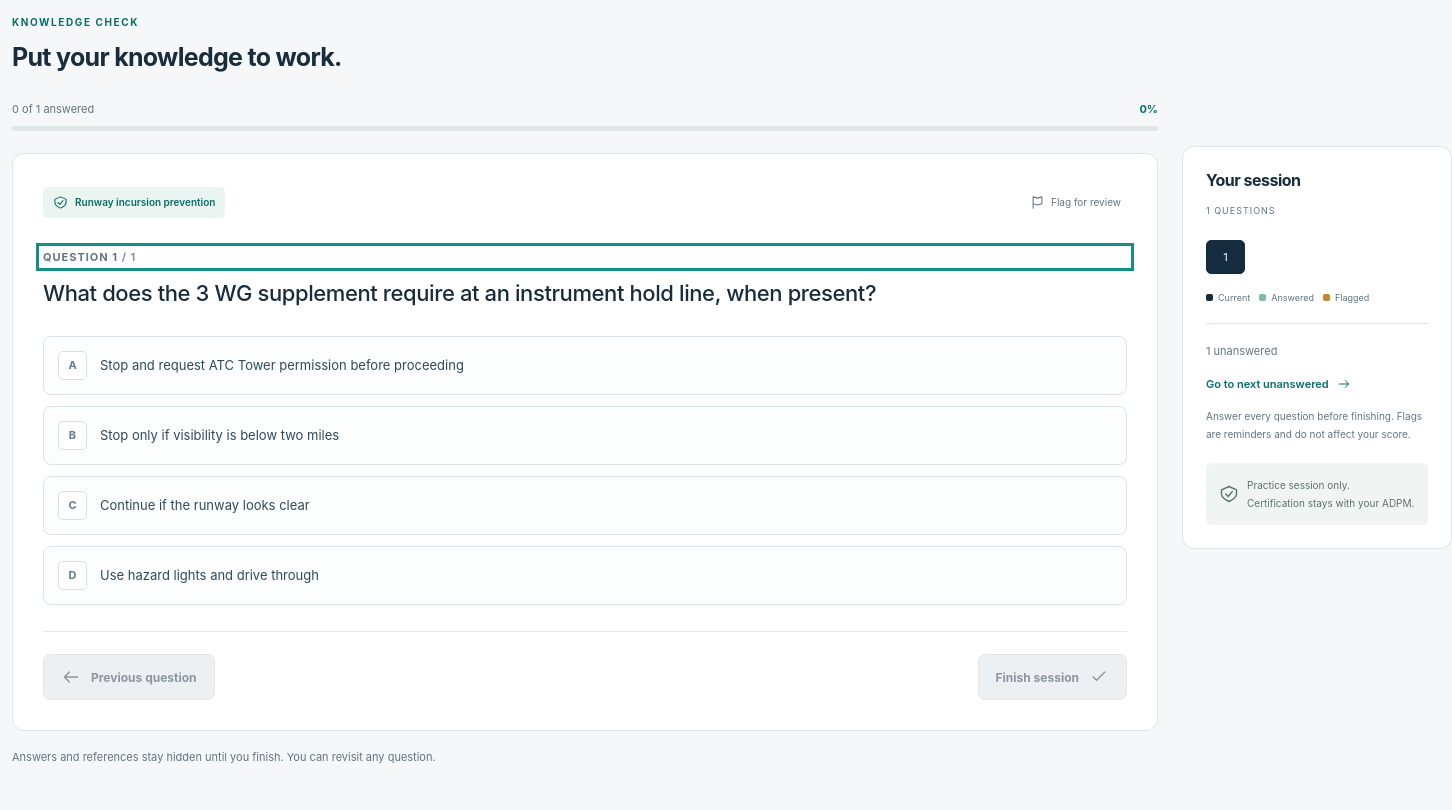
missing an Elmendorf instrument hold-line answer requires incursion review
The width and height of the screenshot is (1452, 810).
Click the button "C Continue if the runway looks clear".
click(205, 505)  # box x1=43 y1=476 x2=1127 y2=535
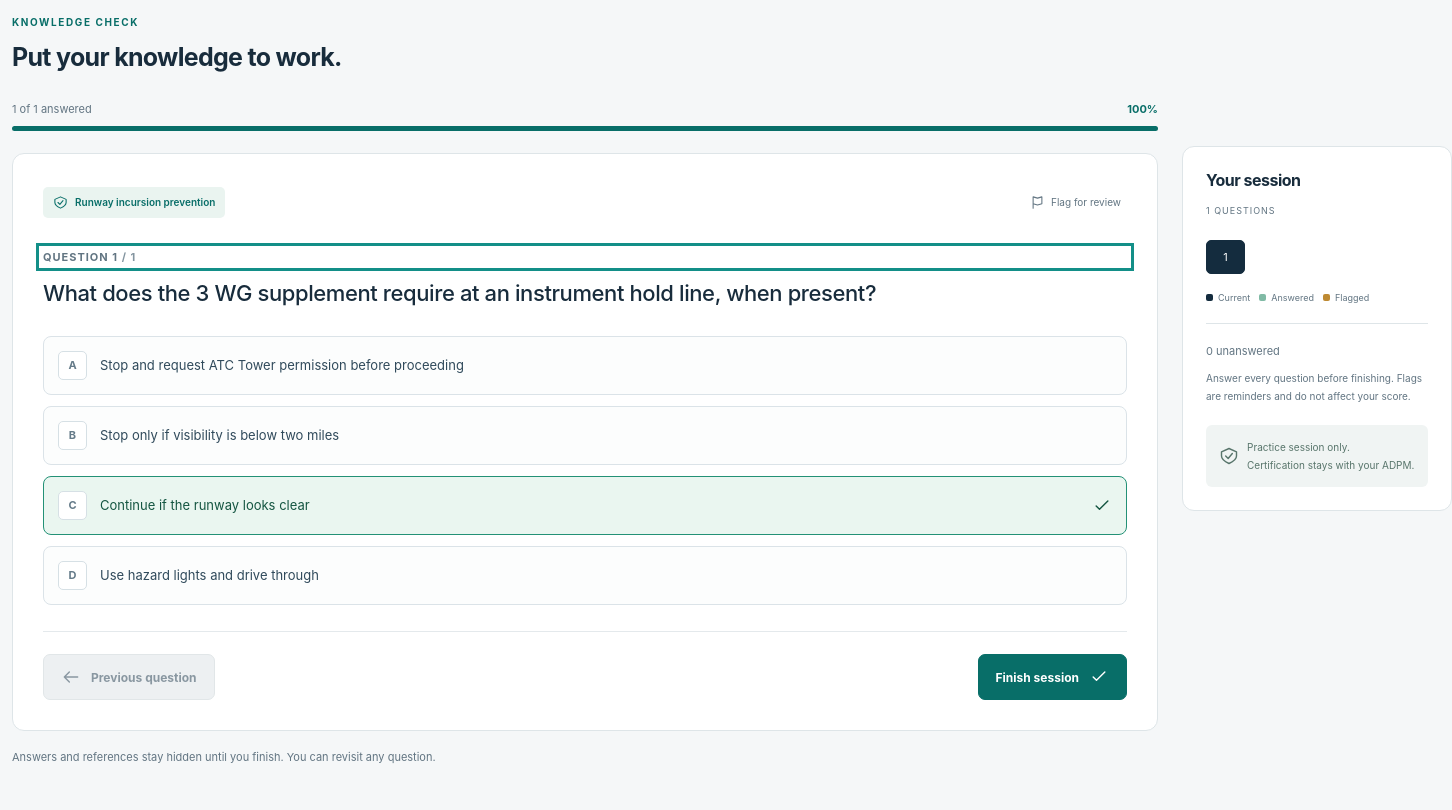
Click the button "Finish session".
click(1052, 677)  # box x1=978 y1=654 x2=1127 y2=700
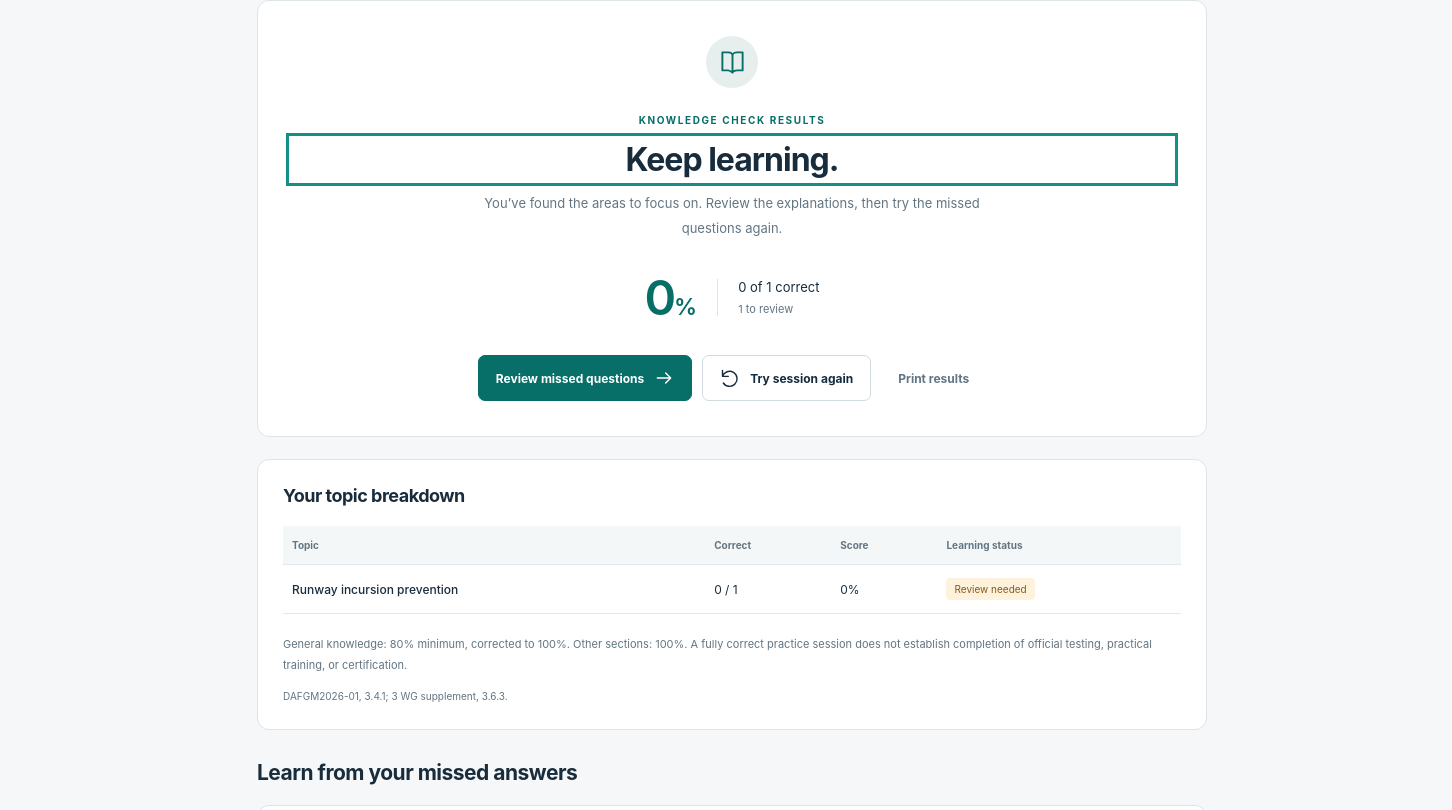
Expected: the row "Runway incursion prevention 0 / 1 0% Review needed" is shown, x1=283 y1=565 x2=1181 y2=614
